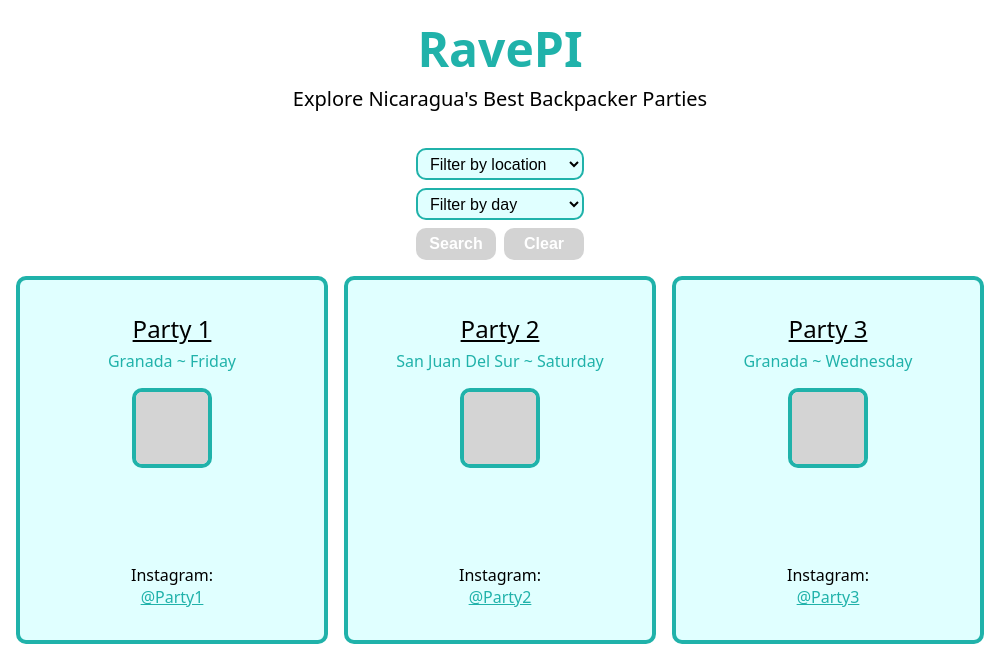
Scenario: RavePI › when initial page loads › and then the user selects a filter/s › and then the user clicks "Search" › and then the user clicks "Clear" › should render all party cards for all days and locations
This screenshot has width=1001, height=661.
Expected: the heading "RavePI" is shown, top-left (417, 16), bottom-right (583, 81)
Step 1. Select "Granada" in the 1st dropdown → (500, 164), box top-left (416, 148), bottom-right (584, 180)
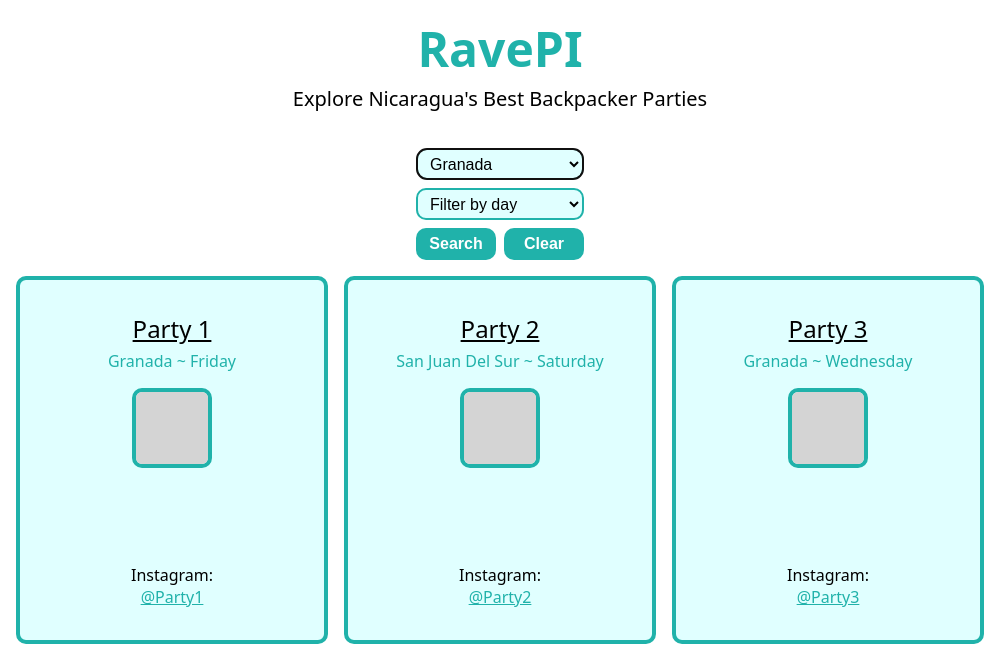
Step 2. Select "Friday" in the 2nd dropdown → (500, 204), box top-left (416, 188), bottom-right (584, 220)
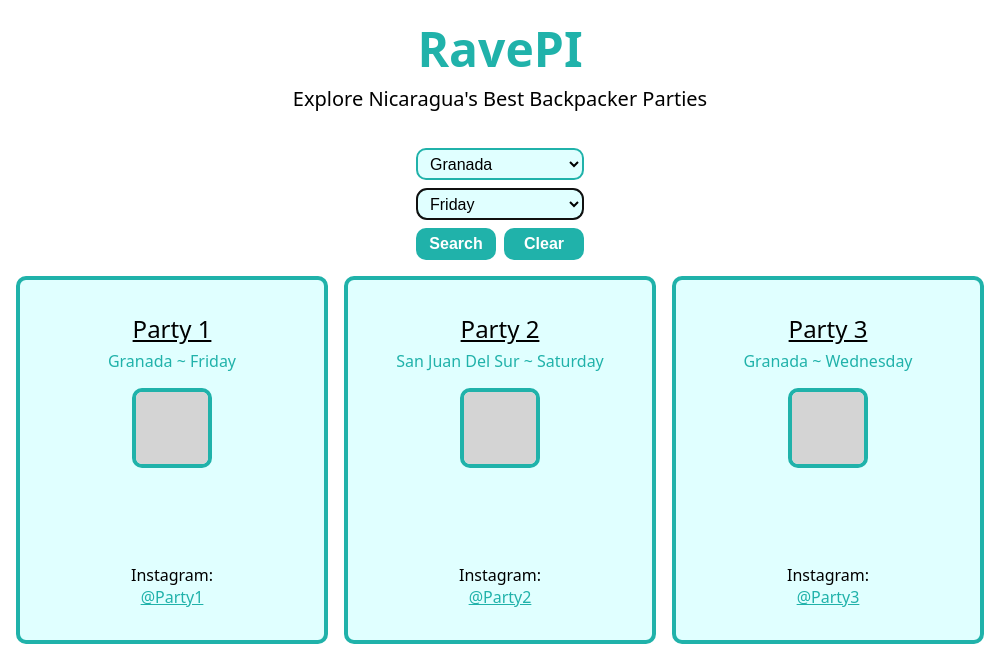
Step 3. Click the button "Search" → (456, 244), box top-left (416, 228), bottom-right (496, 260)
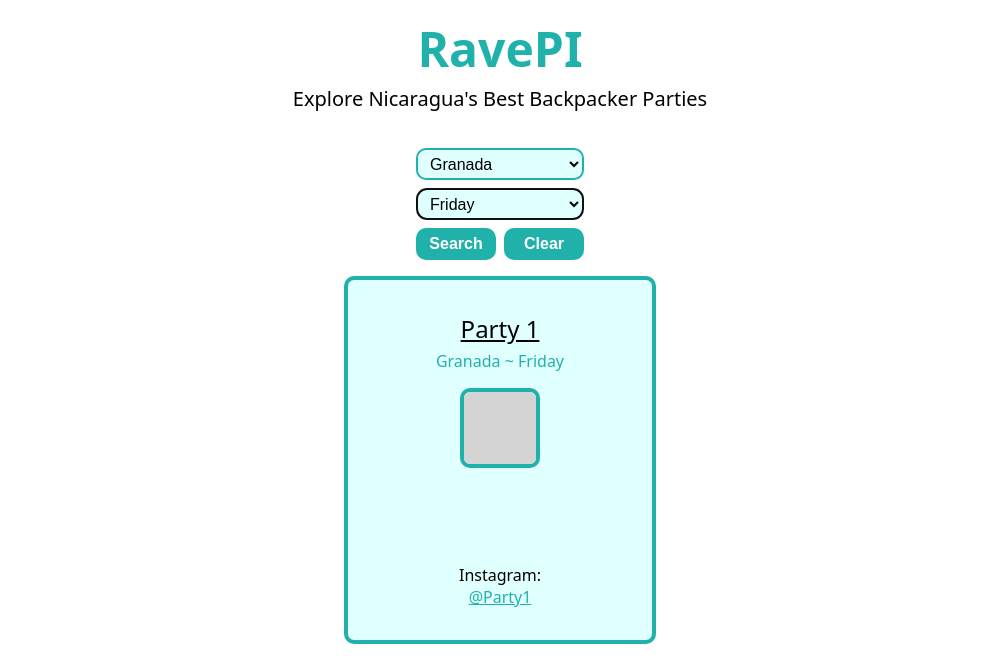
Step 4. Click the button "Clear" → (544, 244), box top-left (504, 228), bottom-right (584, 260)
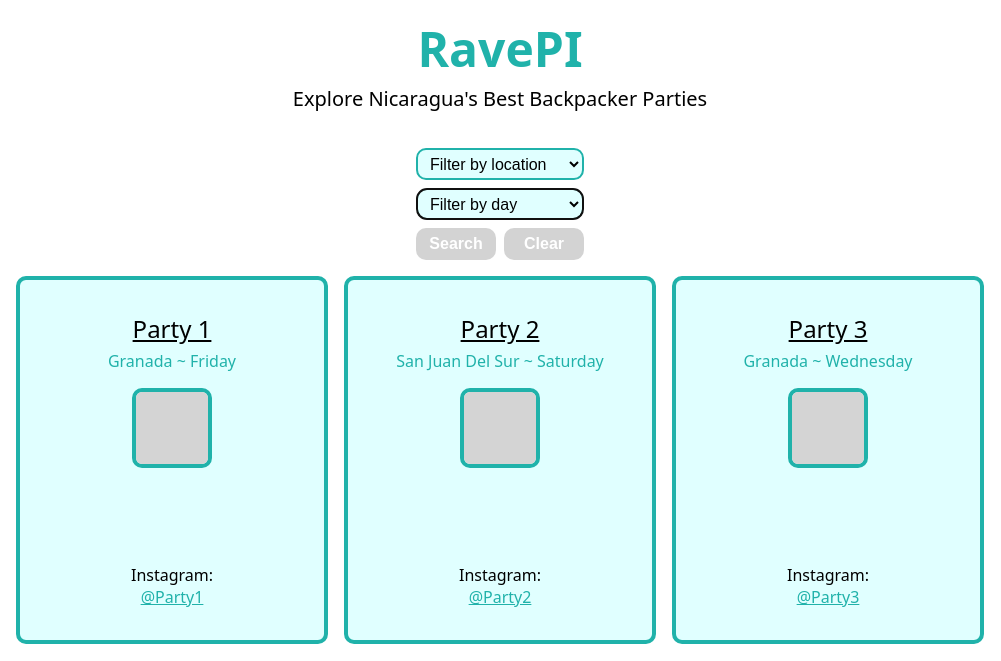
Result: the elements "Party" read "Party 1", "Party 2", "Party 3", in this order at top-left (133, 312), bottom-right (211, 345); top-left (461, 312), bottom-right (539, 345); top-left (789, 312), bottom-right (867, 345)
